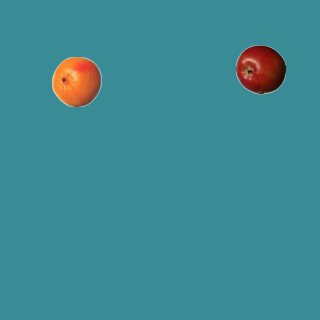Apple Braeburn: (235, 44, 285, 94)
Grapefruit Pink: (51, 56, 101, 106)
